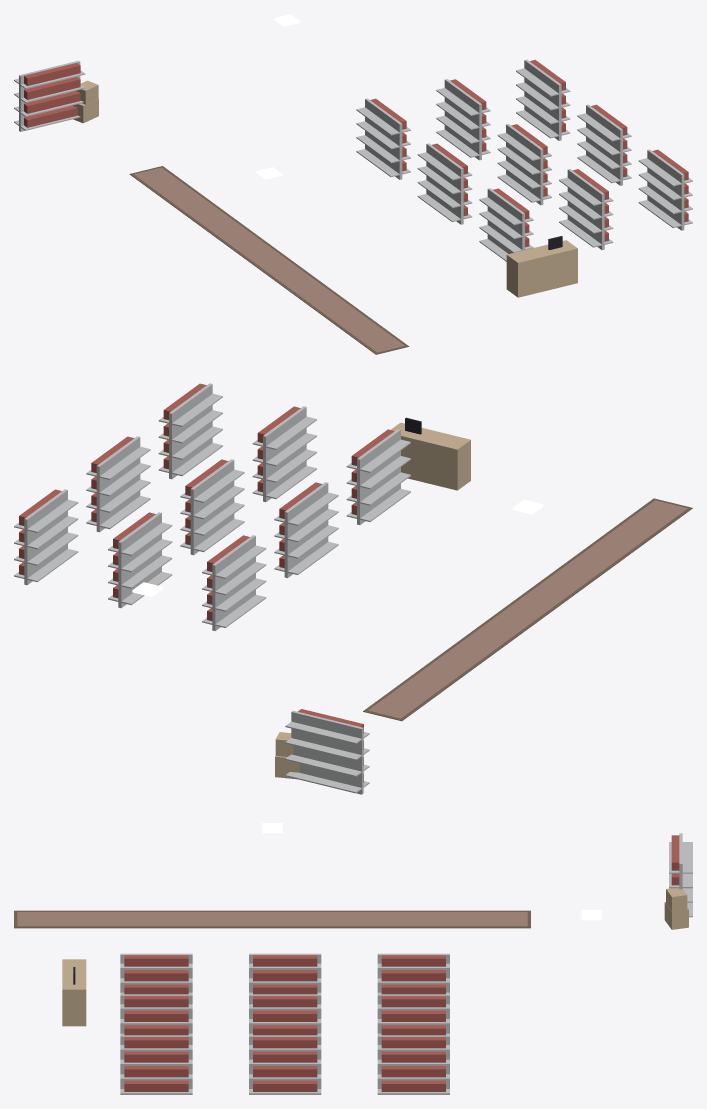
Rendered from fine-s0.glb.
3 views of the same model, one above another, from view 1: azimuth 30°, elevation 25°; view 2: azimuth 150°, elevation 25°; view 3: azimuth 270°, elevation 25° (orthographic). The views are drawn at different scales.
Parts seen in each view (by area): view 1: soft-s0, shelving.000, shop-counter.000, shelf.003, shelf.001, shelf.004, shelf.008, shelf.006, shelf.000, shelf.007, shelf.005, shelf.002 (+1 smaller); view 2: soft-s0, shelving.000, shelf.001, shelf.004, shelf.007, shelf.005, shelf.002, shelf.008, shelf.000, shelf.006, shelf.003, shop-counter.000 (+1 smaller); view 3: soft-s0, shelf.006, shelf.007, shelf.008, shelf.002, shelf.005, shelf.003, shelf.004, shelf.000, shelf.001, shop-counter.000, shelving.000 (+1 smaller).
Part boxes in pixels (<box>): soft-s0: <box>129,166,409,354</box>; shelving.000: <box>14,60,85,131</box>; shop-counter.000: <box>506,236,577,297</box>; shelf.003: <box>436,79,490,160</box>; shelf.001: <box>417,143,472,224</box>; shelf.004: <box>497,124,551,205</box>; shelf.008: <box>638,149,692,230</box>; shelf.006: <box>516,59,570,140</box>; shelf.000: <box>356,98,410,179</box>; shelf.007: <box>577,104,631,185</box>; shelf.005: <box>559,169,613,250</box>; shelf.002: <box>479,188,533,261</box>; soft-s0: <box>363,498,692,721</box>; shelving.000: <box>285,709,369,794</box>; shelf.001: <box>274,482,338,578</box>; shelf.004: <box>180,459,244,555</box>; shelf.007: <box>86,436,150,532</box>; shelf.005: <box>252,406,316,502</box>; shelf.002: <box>346,429,410,524</box>; shelf.008: <box>158,383,222,479</box>; shelf.000: <box>202,535,266,630</box>; shelf.006: <box>14,489,78,585</box>; shelf.003: <box>108,512,172,608</box>; shop-counter.000: <box>391,417,470,490</box>; soft-s0: <box>14,910,530,928</box>; shelf.006: <box>377,1035,449,1094</box>; shelf.007: <box>249,1035,321,1094</box>; shelf.008: <box>120,1035,192,1094</box>; shelf.002: <box>120,953,192,994</box>; shelf.005: <box>120,994,192,1035</box>; shelf.003: <box>377,994,449,1035</box>; shelf.004: <box>249,994,321,1035</box>; shelf.000: <box>377,953,449,994</box>; shelf.001: <box>249,953,321,994</box>; shop-counter.000: <box>62,959,86,1026</box>; shelving.000: <box>669,833,692,917</box>.
Size of the model in its own units: 12.22 by 2.53 by 16.89.
